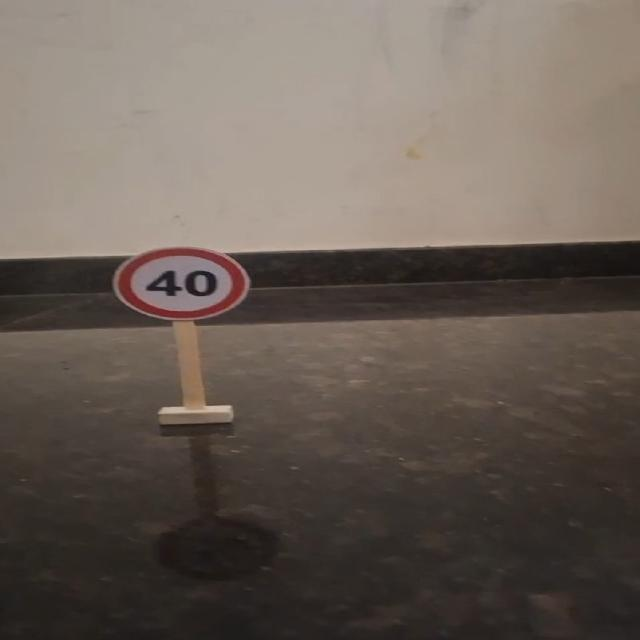Speed40: (111, 243, 254, 323)
